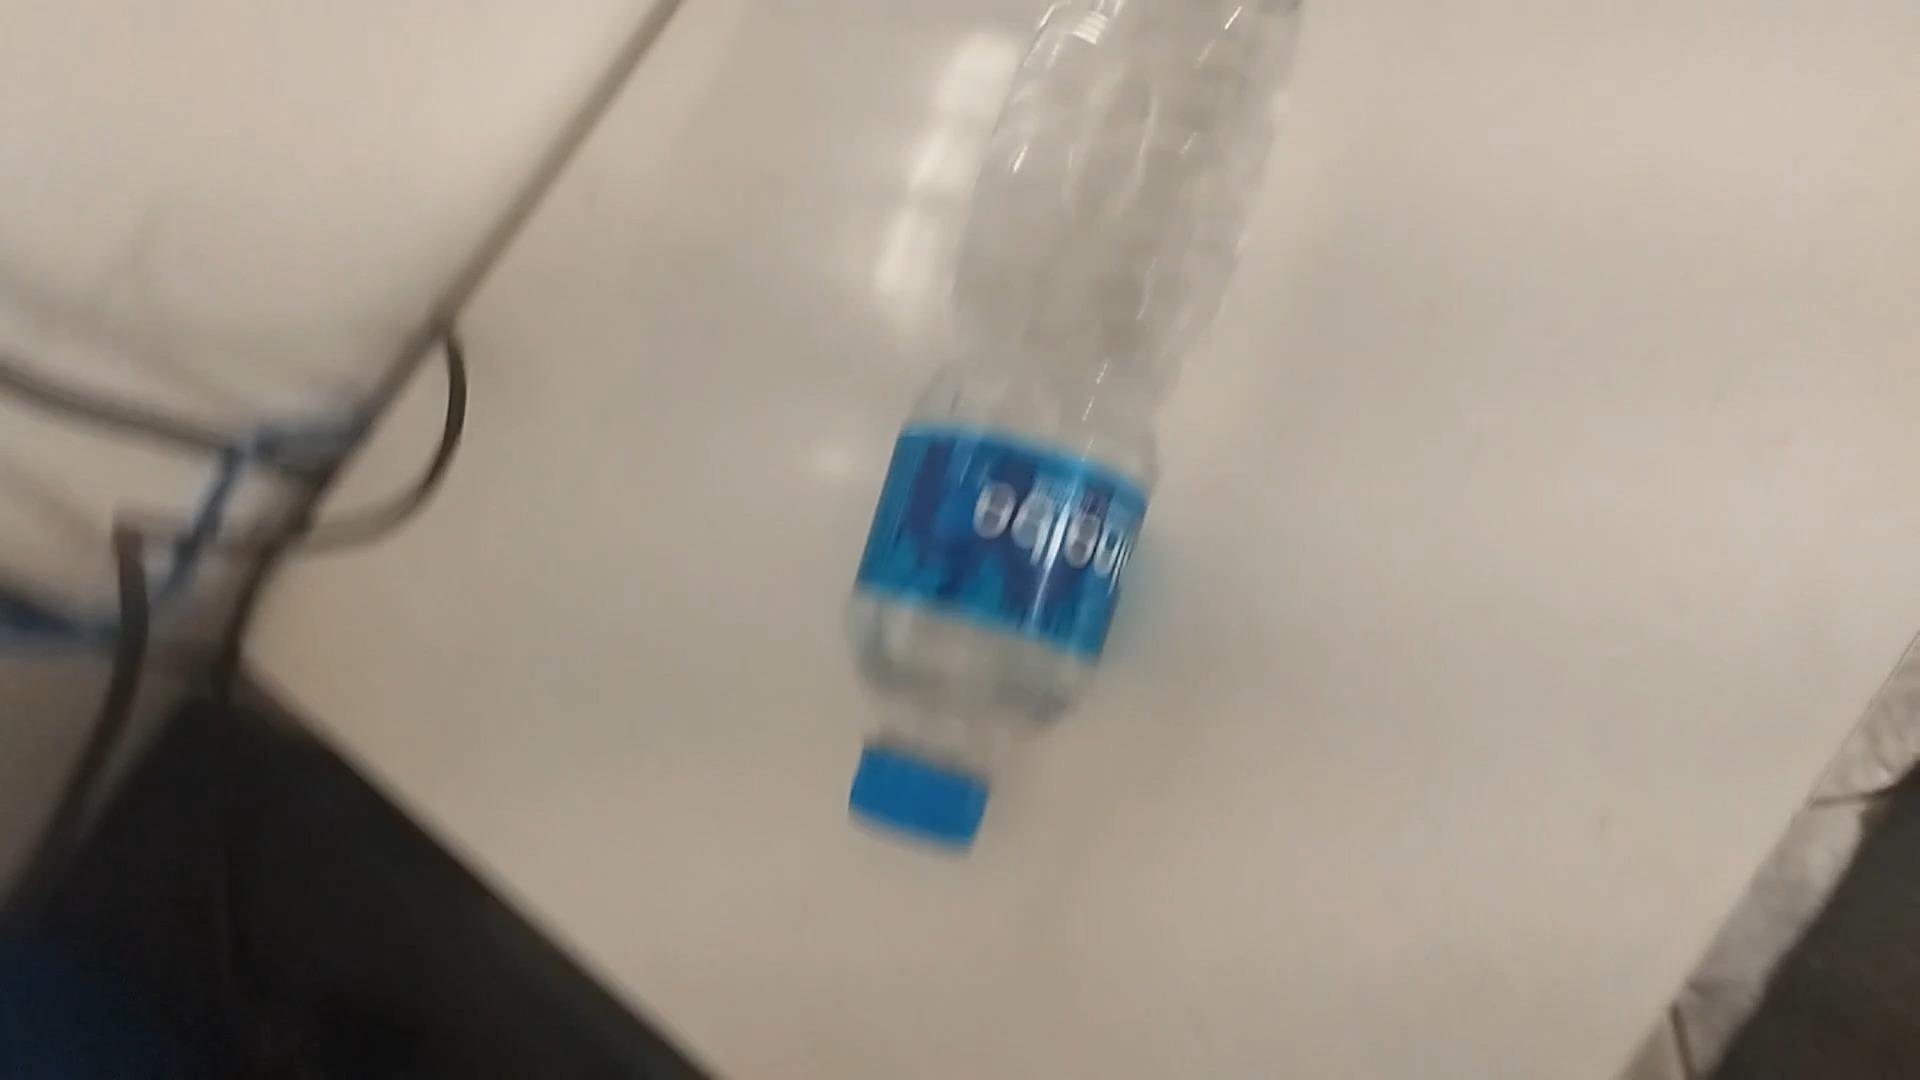agua: (839, 0, 1304, 862)
